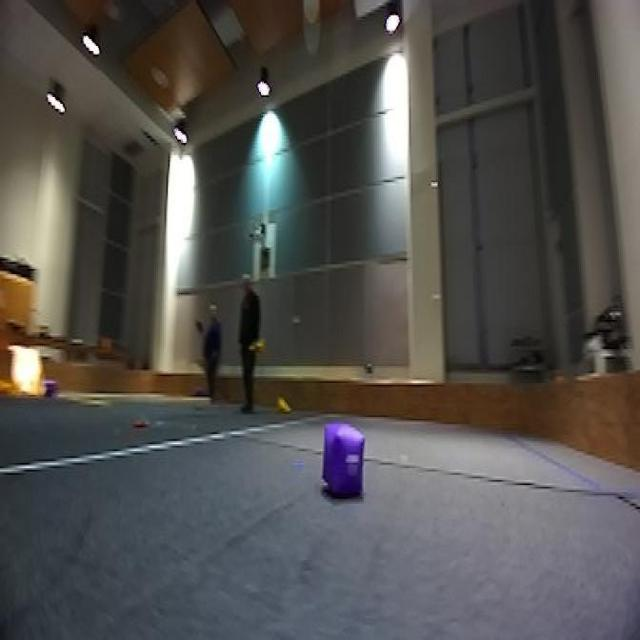frc_cone: (274, 389, 292, 414), (248, 335, 266, 356)
frc_cube: (321, 420, 367, 499), (42, 378, 58, 400)
